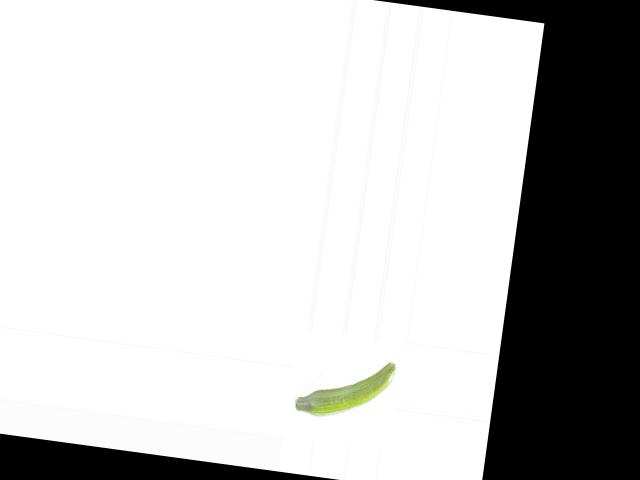cucumber: (292, 349, 396, 425)
